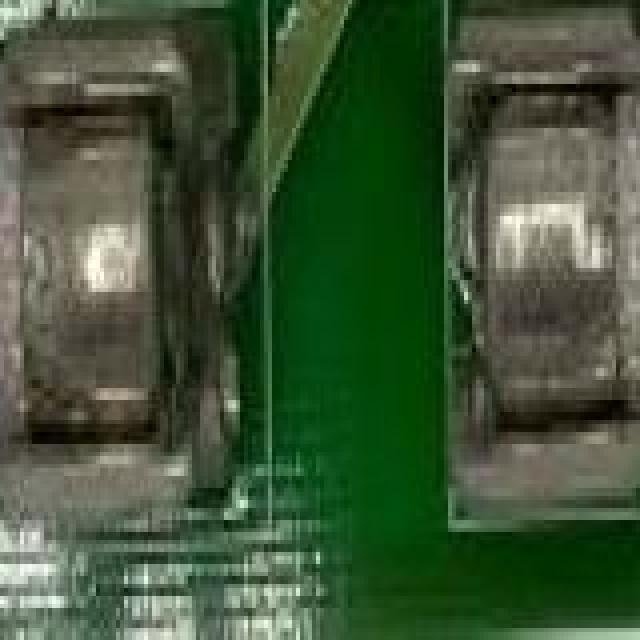fuse: (0, 20, 264, 564), (440, 16, 640, 488)
